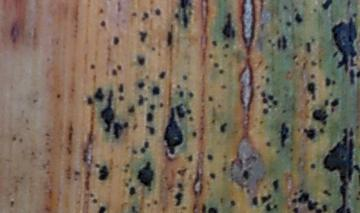tarspot: (324, 128, 353, 213), (332, 18, 356, 71), (164, 108, 183, 155), (101, 90, 114, 131), (136, 160, 153, 188), (222, 11, 235, 38), (179, 1, 189, 29), (312, 109, 328, 125), (306, 81, 316, 100), (281, 121, 288, 147), (112, 122, 123, 138), (173, 190, 183, 207), (302, 127, 316, 139), (98, 164, 108, 180), (93, 88, 105, 101), (177, 102, 186, 118), (297, 192, 310, 203), (271, 178, 280, 191), (304, 39, 312, 53), (322, 1, 333, 11), (307, 200, 319, 209), (166, 31, 173, 46), (219, 121, 227, 134), (349, 68, 355, 85), (322, 188, 332, 198), (127, 103, 136, 114), (139, 30, 147, 42), (82, 148, 88, 164), (137, 92, 144, 105), (242, 169, 249, 182), (151, 86, 160, 96), (146, 125, 155, 135), (128, 185, 136, 196), (276, 37, 282, 51), (141, 12, 150, 21), (112, 35, 120, 45), (137, 56, 145, 66), (185, 153, 193, 163), (294, 13, 302, 23), (86, 97, 95, 105), (136, 81, 145, 89), (207, 171, 216, 179), (331, 99, 339, 108), (262, 195, 271, 203), (117, 83, 124, 93), (154, 7, 161, 17), (282, 35, 287, 49), (324, 77, 331, 87), (353, 163, 360, 172), (265, 203, 272, 212), (131, 204, 138, 213), (147, 112, 153, 122), (201, 203, 207, 213), (252, 195, 257, 207), (177, 168, 187, 174), (99, 20, 106, 28), (88, 62, 96, 69), (149, 103, 156, 111), (139, 147, 147, 154), (129, 10, 137, 17), (206, 153, 213, 161), (152, 198, 159, 206), (111, 67, 117, 76), (9, 199, 15, 208), (177, 181, 182, 191), (117, 95, 124, 102), (173, 12, 180, 19), (229, 200, 236, 207), (285, 20, 292, 27), (310, 59, 317, 66), (99, 206, 106, 213), (159, 71, 165, 79), (182, 74, 188, 82), (178, 90, 184, 98), (310, 162, 316, 170), (318, 126, 324, 134), (332, 50, 338, 58), (272, 202, 278, 210), (208, 208, 217, 213), (322, 204, 327, 213), (315, 208, 324, 213), (324, 98, 329, 107), (72, 170, 81, 175), (98, 7, 104, 14), (131, 149, 138, 155), (218, 69, 225, 75), (213, 62, 219, 69), (272, 100, 279, 106), (267, 94, 274, 100), (291, 197, 297, 204), (352, 11, 358, 18), (331, 78, 337, 85), (266, 141, 272, 148), (262, 63, 269, 69), (281, 107, 287, 114), (275, 149, 282, 155), (292, 7, 299, 13), (11, 135, 17, 142), (144, 140, 149, 148), (192, 130, 197, 138), (212, 39, 217, 47), (261, 90, 266, 98), (123, 122, 129, 128), (150, 46, 156, 52), (207, 95, 213, 101), (208, 53, 214, 59), (262, 98, 268, 104), (92, 198, 98, 204), (146, 202, 152, 208), (211, 117, 217, 123), (117, 63, 122, 70), (282, 4, 287, 11), (220, 84, 227, 89), (125, 162, 130, 169), (56, 93, 61, 99), (176, 83, 181, 89), (189, 92, 194, 98), (224, 43, 229, 49), (265, 77, 270, 83), (331, 108, 336, 114), (310, 73, 315, 79), (292, 55, 297, 61), (255, 84, 261, 89), (89, 193, 95, 198), (312, 8, 318, 13), (346, 1, 351, 7), (159, 103, 164, 108), (187, 109, 192, 114), (263, 108, 268, 113), (293, 208, 298, 213), (346, 208, 351, 213), (267, 38, 272, 43), (222, 167, 227, 172), (246, 188, 251, 193), (223, 53, 228, 58), (128, 177, 133, 182), (19, 137, 24, 142), (356, 71, 360, 77), (290, 147, 294, 153), (189, 117, 194, 121), (356, 197, 360, 201), (357, 190, 360, 195)
